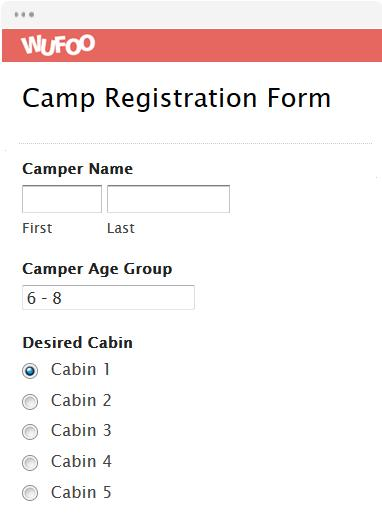radiobutton: (16, 331, 147, 507)
textbox: (20, 282, 203, 315), (18, 181, 107, 216)
